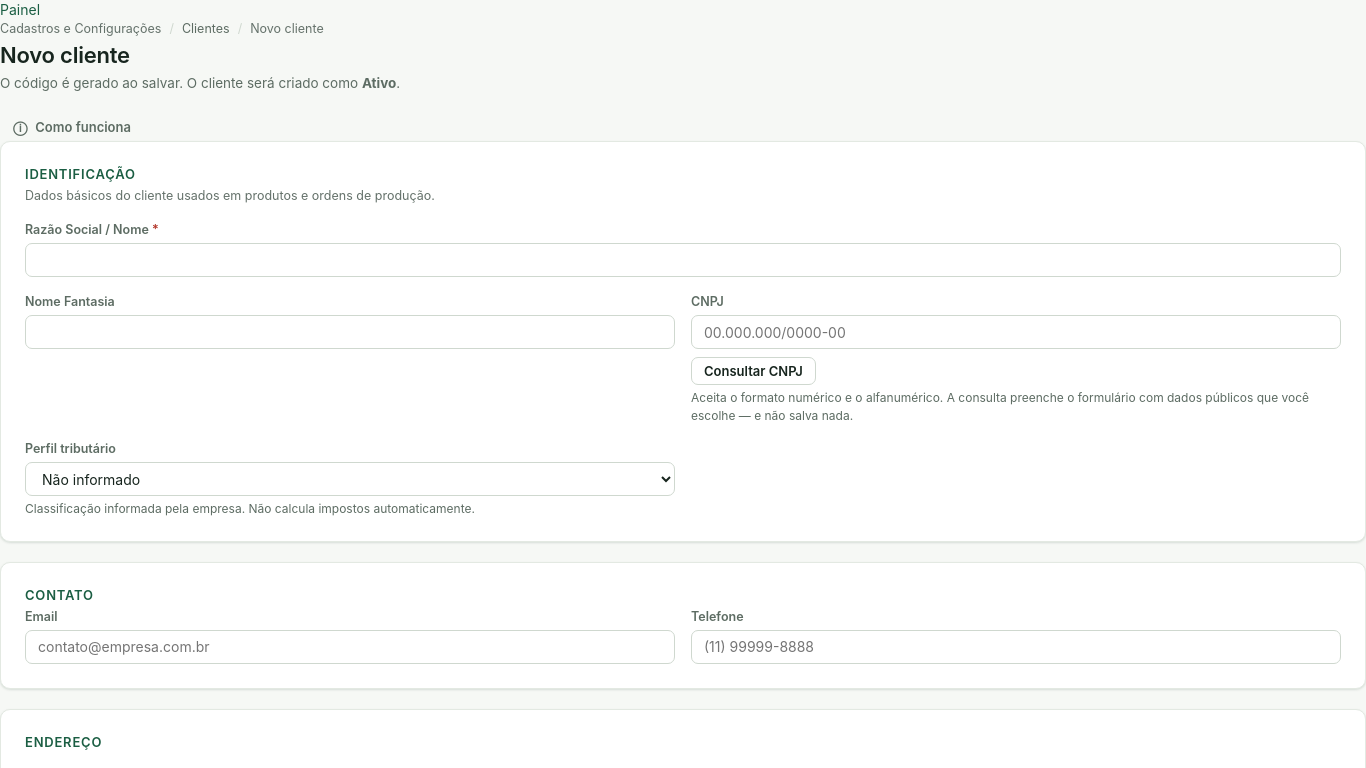
Scenario: Cliente novo — guarda de alterações não salvas › aberto com os defaults, sai sem perguntar
Expected: the heading "Novo cliente" is shown, [0,42,130,68]
Click the link "Painel": {"x": 20, "y": 10} [0,1,40,18]
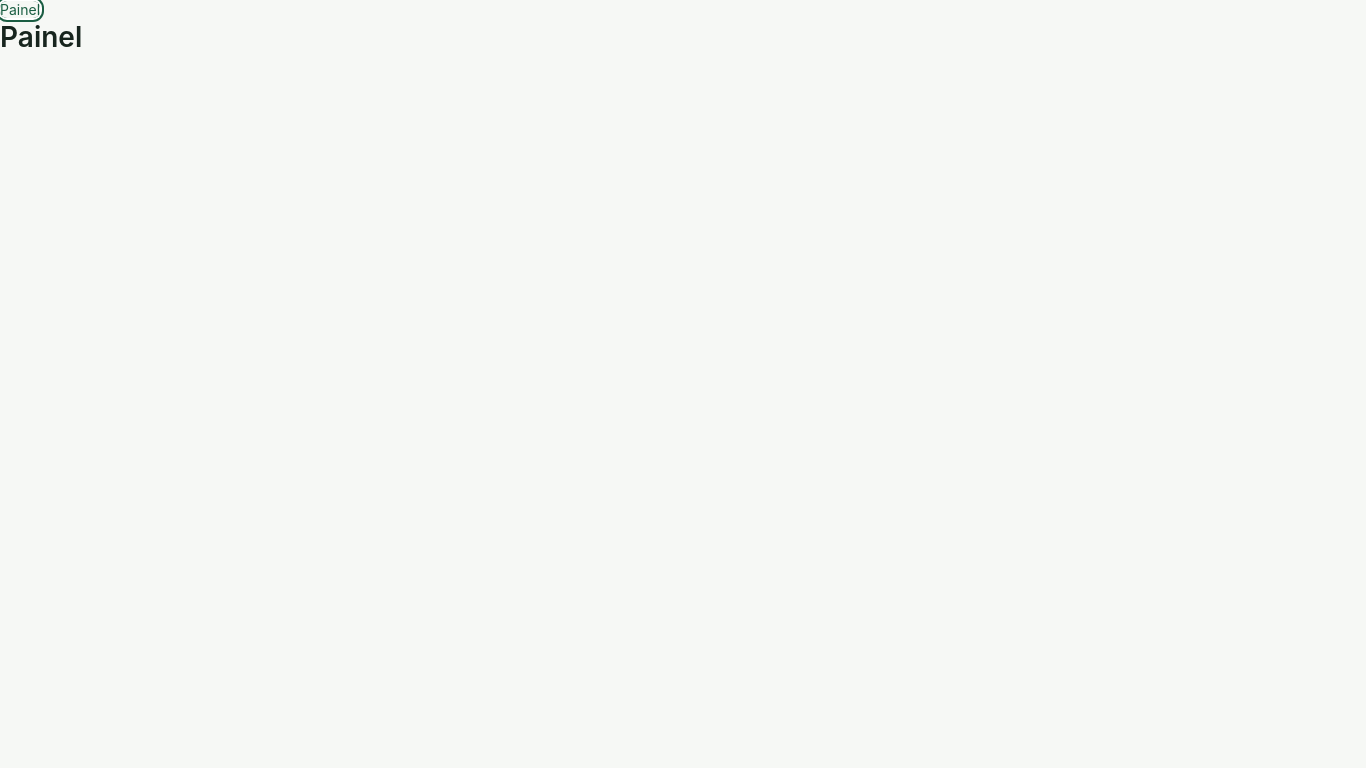
Result: the heading "Painel" is shown at [0,20,82,54]
